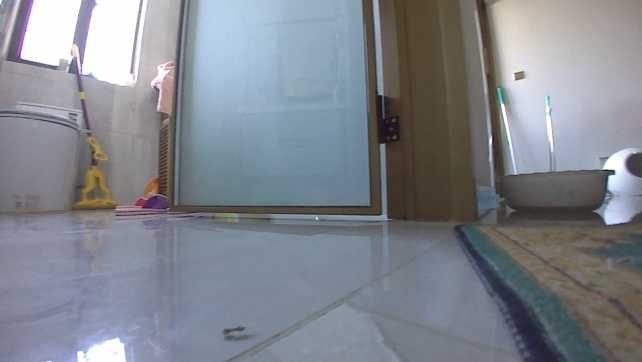blanket: (449, 216, 641, 360)
door_anno: (166, 0, 385, 220)
slipper: (114, 192, 171, 215)
toilet: (0, 100, 83, 216)
